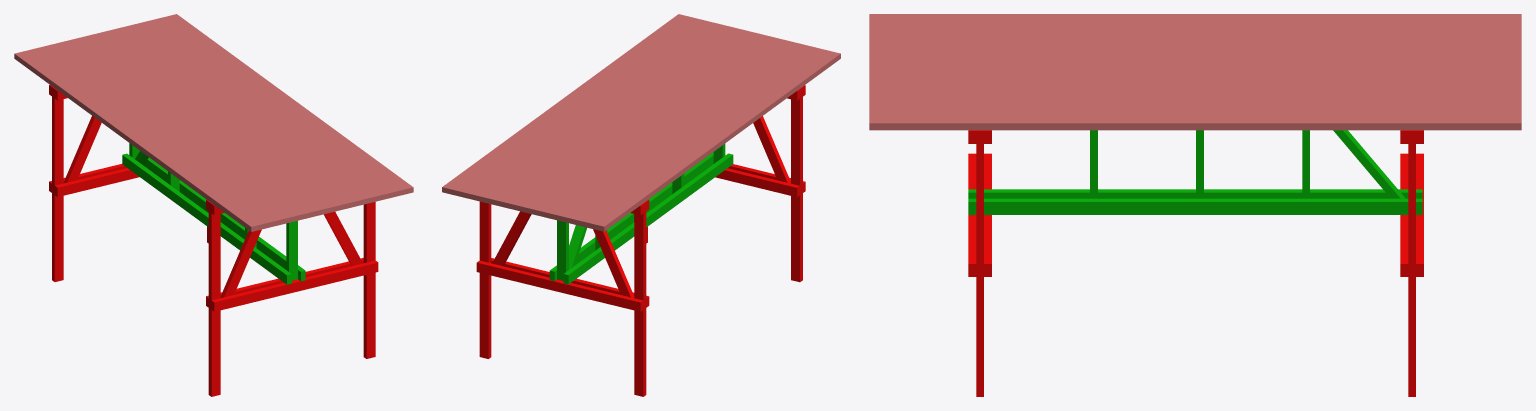
File: result.glb
3 renders of one model, left to right at view 1: azimuth 30°, elevation 25°; view 2: azimuth 150°, elevation 25°; view 3: azimuth 270°, elevation 25°, orthographic. The views are drawn at different scales.
Parts seen in each view (by area): view 1: 417d00a3-88aa-495a-942b-62ed83b587c4__Box, b583ac31-9294-496a-bdba-7cfc3bd79c08__sideV, ac2eb99b-d4f3-4b06-a3c3-ad3e79fef7fc__undefined, e43998de-01c5-454f-b5f3-0cb5a9d6b7e1__undefined, 0dd91f0b-8751-4b07-bc30-4dd39ed9d69f__undefined, 32c273c0-176a-4e2a-bf17-0d6225f65e92__undefined, 2905d6e3-6248-4e99-ac4a-b762adf321d3__undefined, 2b97f6a2-7f01-4e97-b98b-68ab99d01049__undefined, ab783d67-a762-464c-b960-5ec009b8b98e__undefined, 8ba4b8db-ff7c-4582-a070-2d8a2a5ca64a__undefined, ede402ba-5431-4a53-bbc7-4ab6ae3090b9__undefined, 90659e29-74da-430d-9993-c70eda7d1199__undefined (+18 smaller); view 2: 417d00a3-88aa-495a-942b-62ed83b587c4__Box, bccd24c9-6d17-4084-83a9-370a6279e737__undefined, 2b97f6a2-7f01-4e97-b98b-68ab99d01049__undefined, d3efb4a0-3a53-431f-9f53-261def8493ee__undefined, 90659e29-74da-430d-9993-c70eda7d1199__undefined, 483a8e83-3b8e-4753-861d-cab6ef4a9760__undefined, 127e716c-e554-40ea-baf8-1aaa84281b31__undefined, ede402ba-5431-4a53-bbc7-4ab6ae3090b9__undefined, 32c273c0-176a-4e2a-bf17-0d6225f65e92__undefined, 5fab0934-5da6-42df-b072-34f3317e648a__undefined, ac2eb99b-d4f3-4b06-a3c3-ad3e79fef7fc__undefined, ab783d67-a762-464c-b960-5ec009b8b98e__undefined (+19 smaller); view 3: e43998de-01c5-454f-b5f3-0cb5a9d6b7e1__undefined, d1362169-529f-439d-b0b7-3a3a0f56ad84__strutH, ab783d67-a762-464c-b960-5ec009b8b98e__undefined, 8ba4b8db-ff7c-4582-a070-2d8a2a5ca64a__undefined, 127e716c-e554-40ea-baf8-1aaa84281b31__undefined, d3efb4a0-3a53-431f-9f53-261def8493ee__undefined, ede402ba-5431-4a53-bbc7-4ab6ae3090b9__undefined, 0dd91f0b-8751-4b07-bc30-4dd39ed9d69f__undefined, 32c273c0-176a-4e2a-bf17-0d6225f65e92__undefined, 90659e29-74da-430d-9993-c70eda7d1199__undefined, 483a8e83-3b8e-4753-861d-cab6ef4a9760__undefined, 5fab0934-5da6-42df-b072-34f3317e648a__undefined (+15 smaller).
Boxes of the visible parts, left/top/right/bottom form: 417d00a3-88aa-495a-942b-62ed83b587c4__Box: left=14, top=51, right=260, bottom=231; b583ac31-9294-496a-bdba-7cfc3bd79c08__sideV: left=208, top=201, right=220, bottom=396; ac2eb99b-d4f3-4b06-a3c3-ad3e79fef7fc__undefined: left=123, top=25, right=368, bottom=205; e43998de-01c5-454f-b5f3-0cb5a9d6b7e1__undefined: left=168, top=14, right=413, bottom=194; 0dd91f0b-8751-4b07-bc30-4dd39ed9d69f__undefined: left=78, top=36, right=323, bottom=216; 32c273c0-176a-4e2a-bf17-0d6225f65e92__undefined: left=87, top=34, right=332, bottom=214; 2905d6e3-6248-4e99-ac4a-b762adf321d3__undefined: left=159, top=16, right=404, bottom=196; 2b97f6a2-7f01-4e97-b98b-68ab99d01049__undefined: left=24, top=49, right=269, bottom=229; ab783d67-a762-464c-b960-5ec009b8b98e__undefined: left=33, top=47, right=278, bottom=227; 8ba4b8db-ff7c-4582-a070-2d8a2a5ca64a__undefined: left=42, top=45, right=287, bottom=225; ede402ba-5431-4a53-bbc7-4ab6ae3090b9__undefined: left=69, top=38, right=314, bottom=218; 90659e29-74da-430d-9993-c70eda7d1199__undefined: left=96, top=31, right=341, bottom=212; 417d00a3-88aa-495a-942b-62ed83b587c4__Box: left=595, top=51, right=840, bottom=231; bccd24c9-6d17-4084-83a9-370a6279e737__undefined: left=634, top=202, right=646, bottom=396; 2b97f6a2-7f01-4e97-b98b-68ab99d01049__undefined: left=586, top=49, right=831, bottom=229; d3efb4a0-3a53-431f-9f53-261def8493ee__undefined: left=550, top=40, right=795, bottom=220; 90659e29-74da-430d-9993-c70eda7d1199__undefined: left=514, top=31, right=759, bottom=211; 483a8e83-3b8e-4753-861d-cab6ef4a9760__undefined: left=505, top=29, right=750, bottom=209; 127e716c-e554-40ea-baf8-1aaa84281b31__undefined: left=559, top=42, right=804, bottom=222; ede402ba-5431-4a53-bbc7-4ab6ae3090b9__undefined: left=541, top=38, right=786, bottom=218; 32c273c0-176a-4e2a-bf17-0d6225f65e92__undefined: left=523, top=34, right=768, bottom=213; 5fab0934-5da6-42df-b072-34f3317e648a__undefined: left=496, top=27, right=741, bottom=207; ac2eb99b-d4f3-4b06-a3c3-ad3e79fef7fc__undefined: left=487, top=25, right=732, bottom=205; ab783d67-a762-464c-b960-5ec009b8b98e__undefined: left=577, top=47, right=822, bottom=227; e43998de-01c5-454f-b5f3-0cb5a9d6b7e1__undefined: left=869, top=117, right=1521, bottom=130; d1362169-529f-439d-b0b7-3a3a0f56ad84__strutH: left=968, top=198, right=1422, bottom=214; ab783d67-a762-464c-b960-5ec009b8b98e__undefined: left=869, top=26, right=1521, bottom=32; 8ba4b8db-ff7c-4582-a070-2d8a2a5ca64a__undefined: left=869, top=32, right=1521, bottom=38; 127e716c-e554-40ea-baf8-1aaa84281b31__undefined: left=869, top=38, right=1521, bottom=44; d3efb4a0-3a53-431f-9f53-261def8493ee__undefined: left=869, top=44, right=1521, bottom=50; ede402ba-5431-4a53-bbc7-4ab6ae3090b9__undefined: left=869, top=50, right=1521, bottom=56; 0dd91f0b-8751-4b07-bc30-4dd39ed9d69f__undefined: left=869, top=56, right=1521, bottom=62; 32c273c0-176a-4e2a-bf17-0d6225f65e92__undefined: left=869, top=62, right=1521, bottom=68; 90659e29-74da-430d-9993-c70eda7d1199__undefined: left=869, top=68, right=1521, bottom=74; 483a8e83-3b8e-4753-861d-cab6ef4a9760__undefined: left=869, top=74, right=1521, bottom=80; 5fab0934-5da6-42df-b072-34f3317e648a__undefined: left=869, top=80, right=1521, bottom=86.
Size of the model in its own units: 800 by 924 by 2000.
